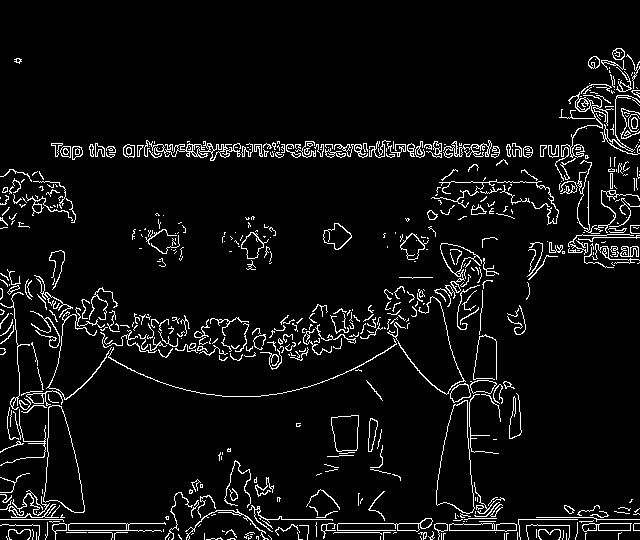left: (139, 223, 189, 264)
right: (315, 217, 358, 259)
up: (231, 225, 270, 267), (395, 226, 434, 266)
